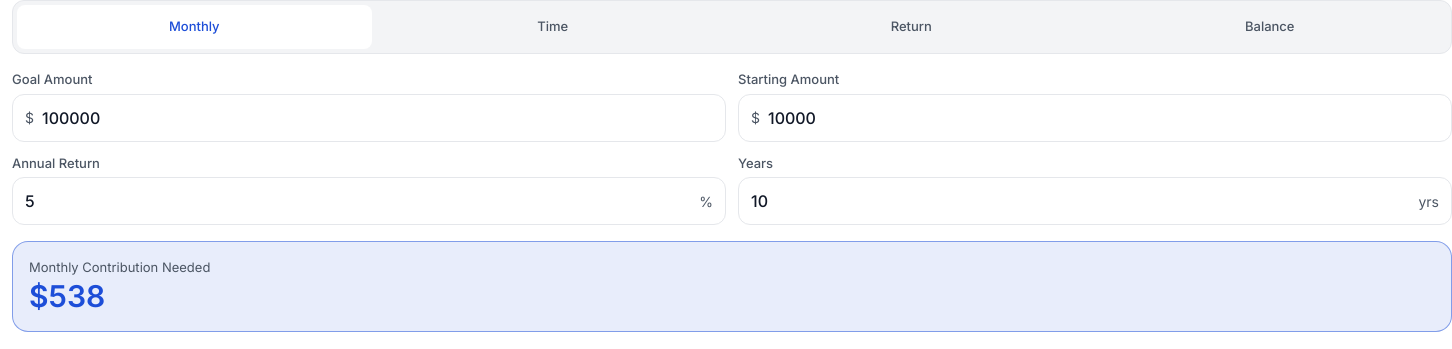
switches what is solved and the fields that apply
Click the button with aria-label "Time to Goal" at (553, 27), box x1=376 y1=5 x2=730 y2=49
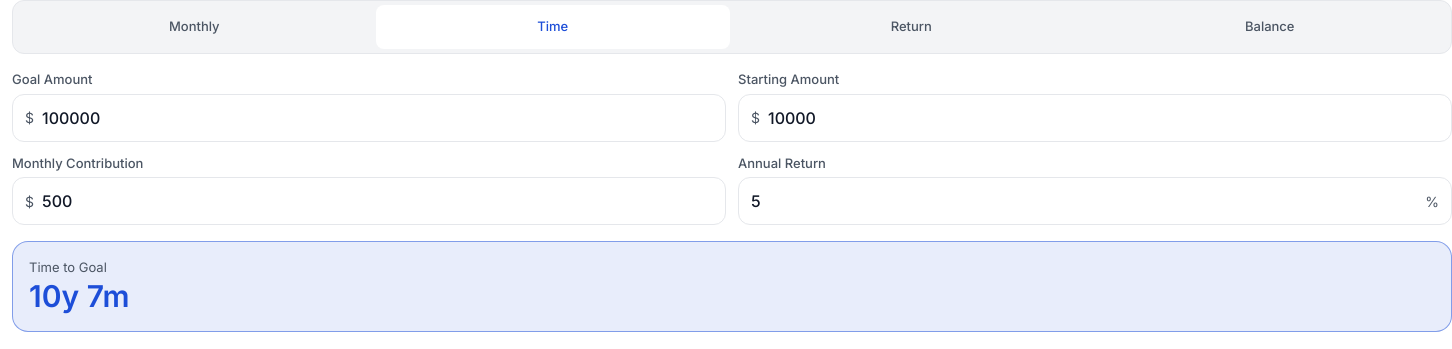
Expected: the text "Time to Goal" is shown, x1=29 y1=259 x2=107 y2=275
Expected: the label "Years" is gone
Click the button with aria-label "Final Balance" at (1270, 27), box x1=1092 y1=5 x2=1447 y2=49
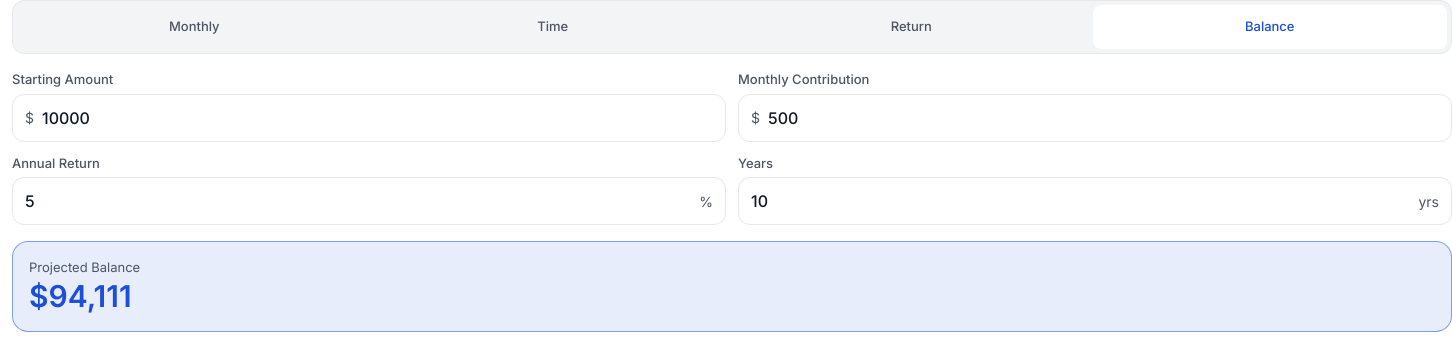
Expected: the label labelled "Goal Amount" is gone
